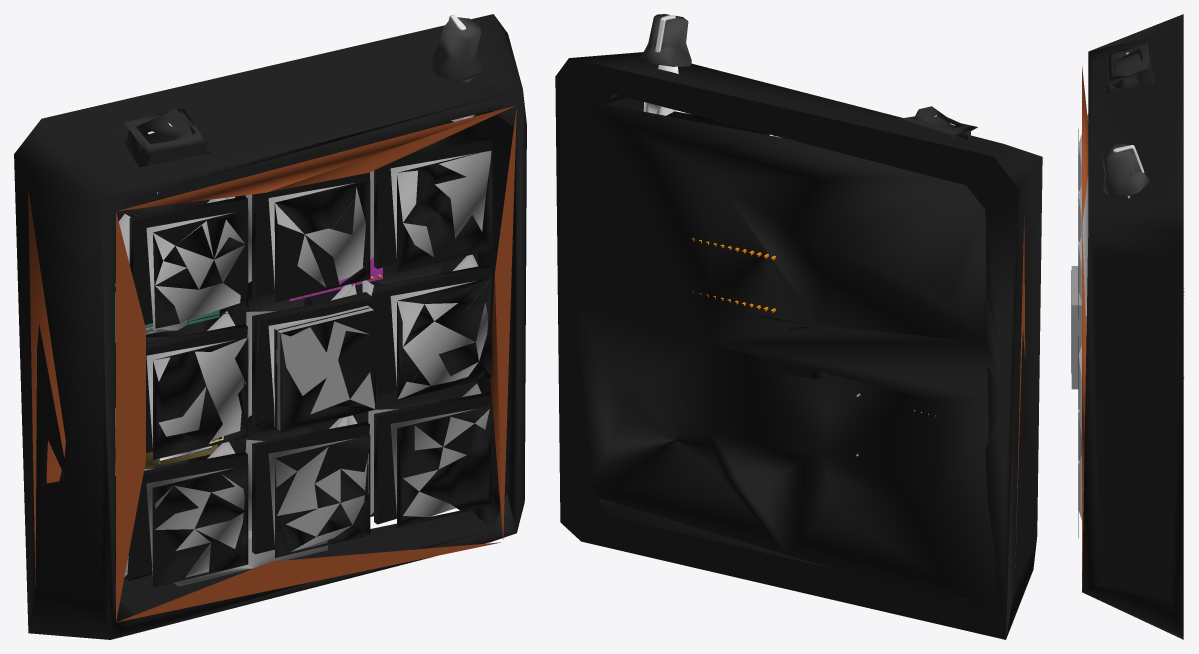
File: model-lite.lod0.glb
3 renders of one model, left to right at view 1: azimuth 30°, elevation 25°; view 2: azimuth 150°, elevation 25°; view 3: azimuth 270°, elevation 25°, orthographic. The views are drawn at different scales.
Parts seen in each view (by area): view 1: Body1:84, Body1:60, Body1:59, top-panel, Body2, Body1:77, Body1:82; view 2: Body1:84, Body1:82, Body1:77; view 3: Body1:84, Body1:82, Body1:59, Body1:77, top-panel, Body2, Body1:60.
Boxes of the visible parts, <box> form: Body1:84: <box>14,14,526,639</box>; Body1:60: <box>127,136,492,587</box>; Body1:59: <box>119,151,491,586</box>; top-panel: <box>28,105,516,622</box>; Body2: <box>274,305,374,430</box>; Body1:77: <box>124,108,207,167</box>; Body1:82: <box>429,15,482,81</box>; Body1:84: <box>555,52,1042,639</box>; Body1:82: <box>640,14,691,66</box>; Body1:77: <box>898,106,977,140</box>; Body1:84: <box>1082,14,1183,639</box>; Body1:82: <box>1101,143,1149,197</box>; Body1:59: <box>1078,113,1088,520</box>; Body1:77: <box>1106,43,1154,91</box>; top-panel: <box>1082,66,1088,589</box>; Body2: <box>1071,266,1081,389</box>; Body1:60: <box>1071,129,1078,537</box>.
Size of what is drawn, in the model's own units: 16.45 by 17.47 by 3.82.
